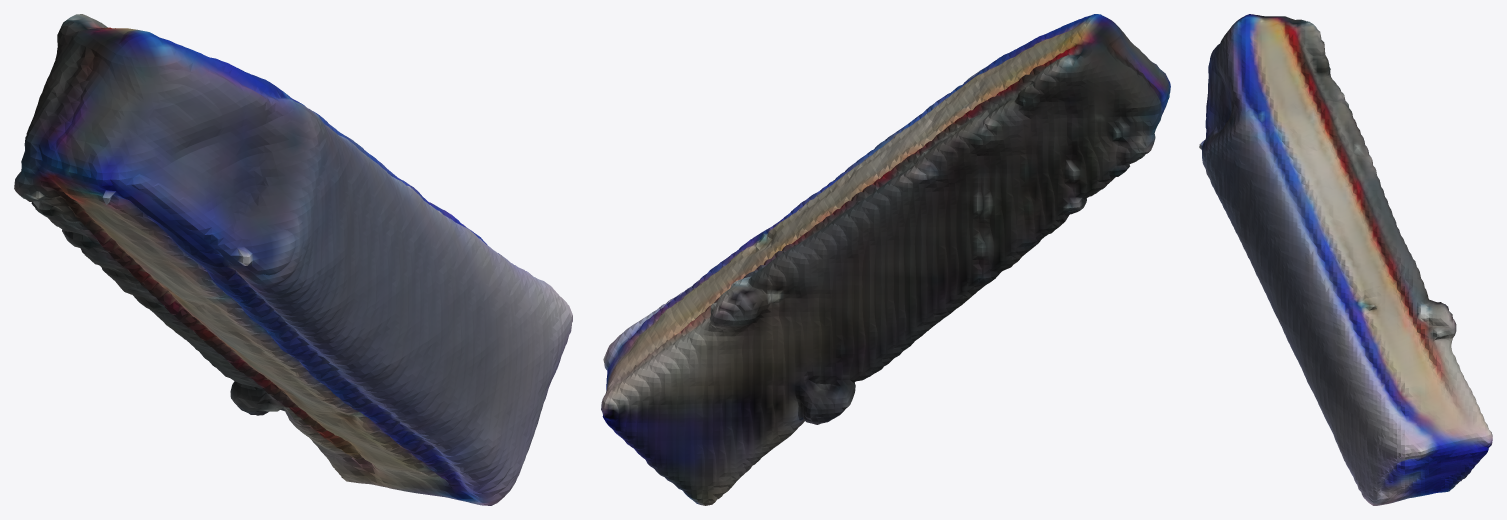
The picture shows the model from 3 angles, left to right: view 1: azimuth 30°, elevation 25°; view 2: azimuth 150°, elevation 25°; view 3: azimuth 270°, elevation 25°; orthographic projection. The views are drawn at different scales.
Bounding box in the file's own units: 0.7285 × 0.6953 × 0.5018.
